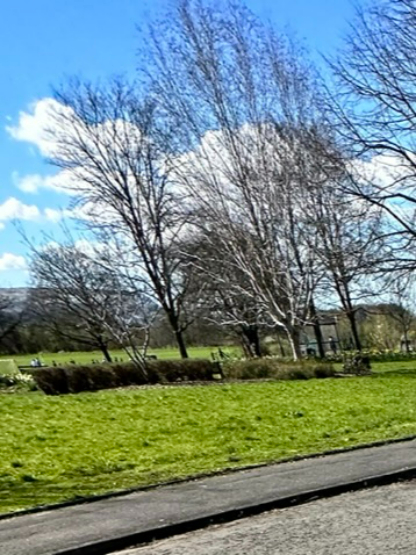tree: (141, 4, 358, 372), (57, 59, 213, 363), (23, 232, 121, 368)
